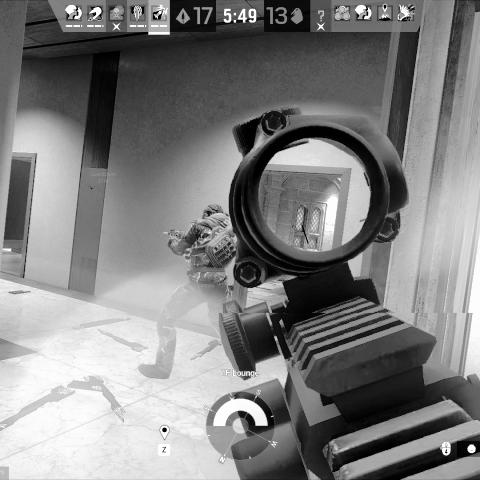Character: (137, 201, 239, 381)
Head: (200, 203, 225, 220)
